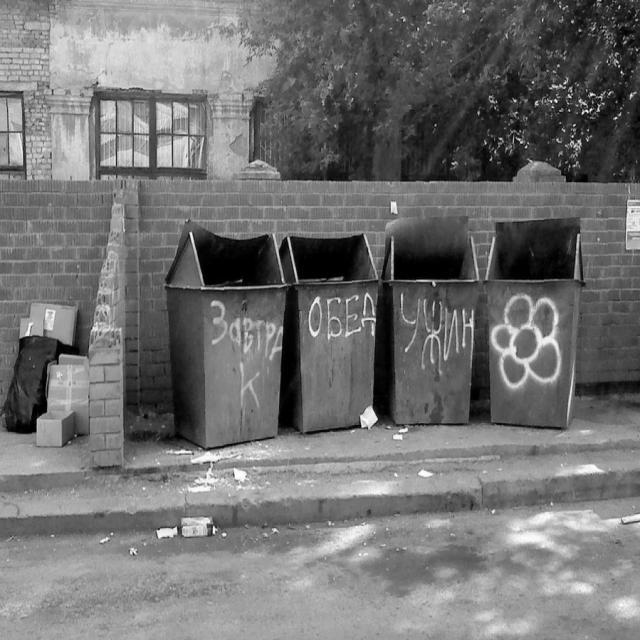bin: (154, 209, 300, 461), (480, 203, 584, 439), (380, 211, 476, 437), (278, 223, 377, 437)
